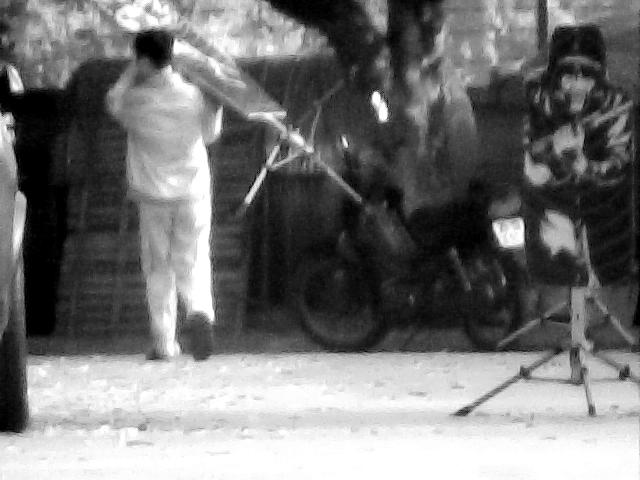chan: (231, 80, 363, 213)
